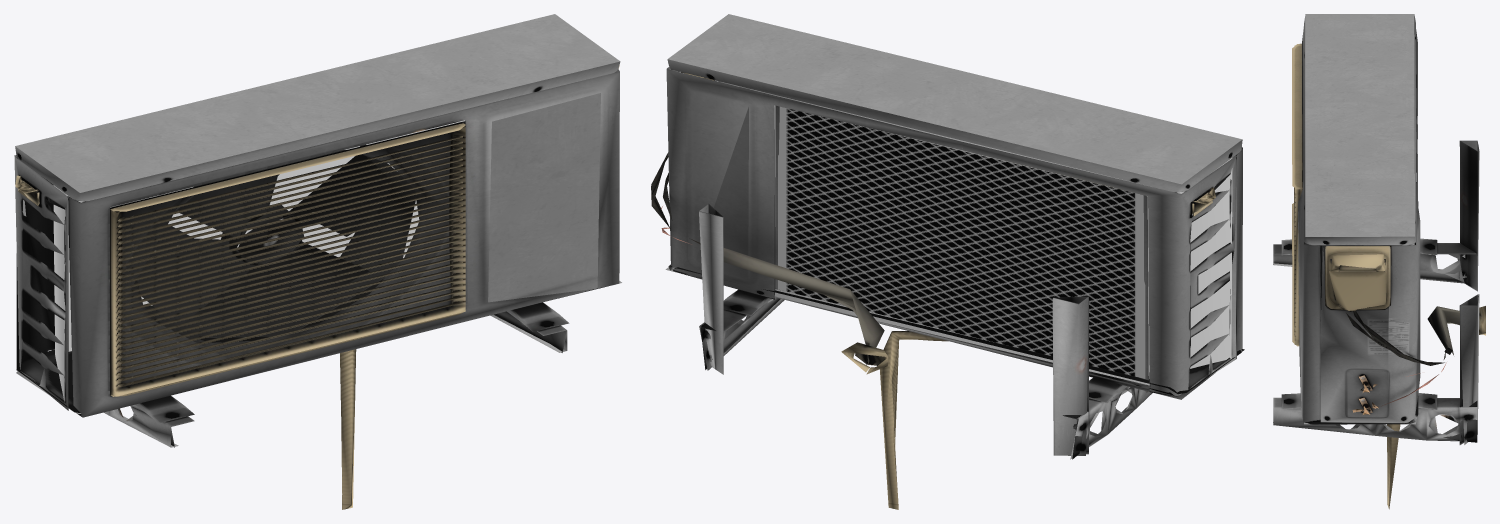
The model's file is aircon_mobile.glb.
3 views of the same model, side by side, from view 1: azimuth 30°, elevation 25°; view 2: azimuth 150°, elevation 25°; view 3: azimuth 270°, elevation 25° (orthographic). The views are drawn at different scales.
Visible parts, largest first — view 1: aircon; view 2: aircon; view 3: aircon.
Boxes of the visible parts, x1=… form: aircon: x1=14, y1=14, x2=621, y2=509; aircon: x1=651, y1=14, x2=1244, y2=509; aircon: x1=1273, y1=14, x2=1485, y2=509.
Bounding box in the file's own units: 1.2 × 0.8477 × 0.4504.
Materials: 2 (2 with a texture image).
